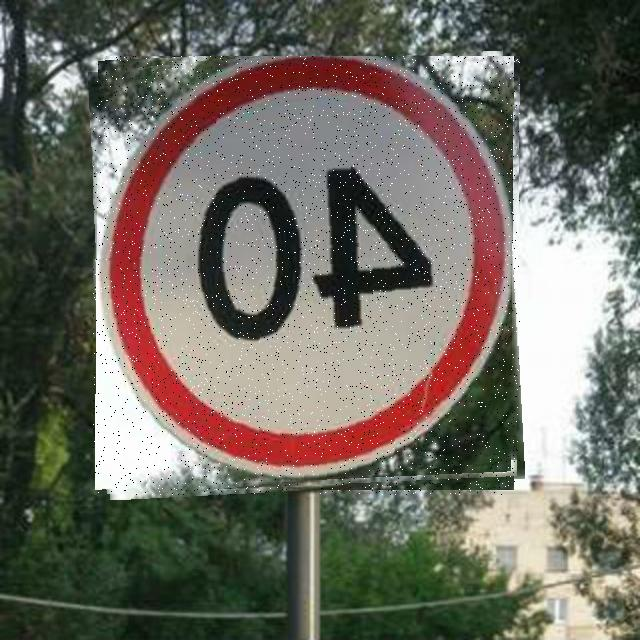speed limit 40: (93, 56, 520, 495)
